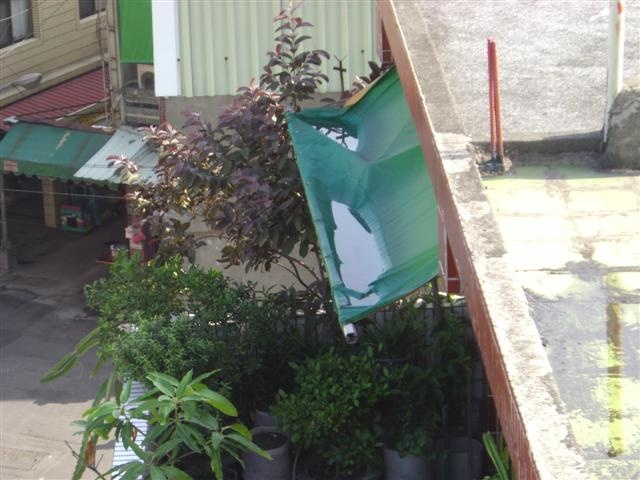bucket: (239, 424, 295, 480)
plastic_bag: (282, 65, 442, 323)
